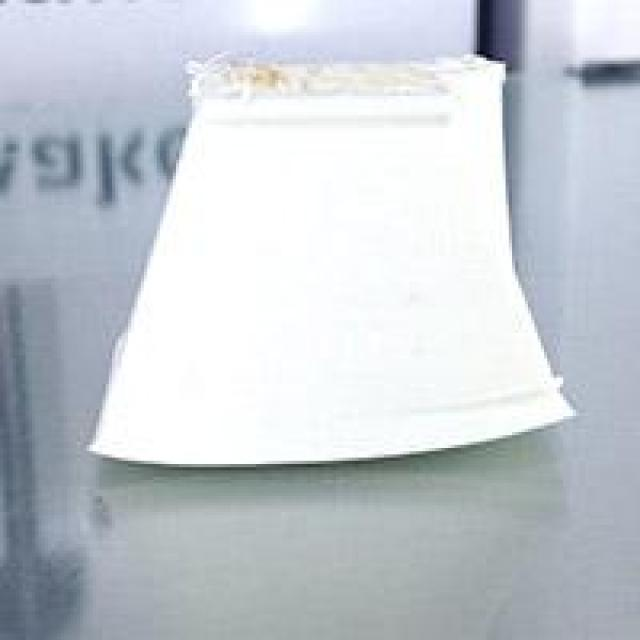Warping: (342, 380, 597, 510), (57, 415, 277, 494)
